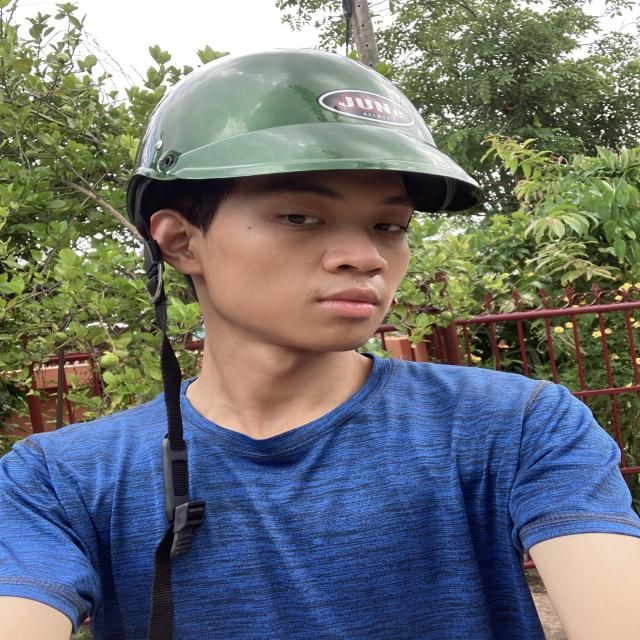illegal_helmet: (120, 45, 494, 640)
